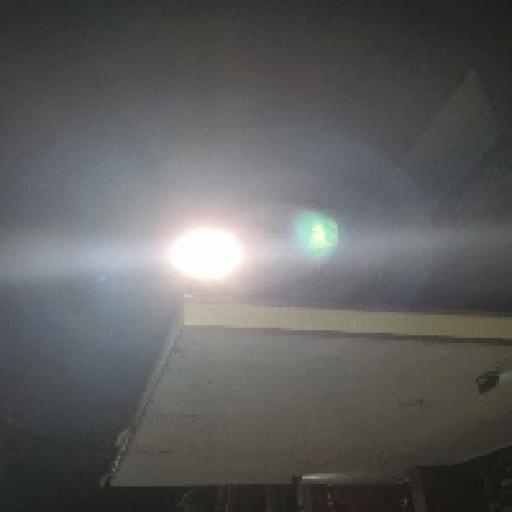Working: (159, 216, 261, 292)
